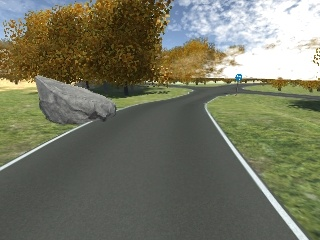Stone: (35, 72, 118, 126)
